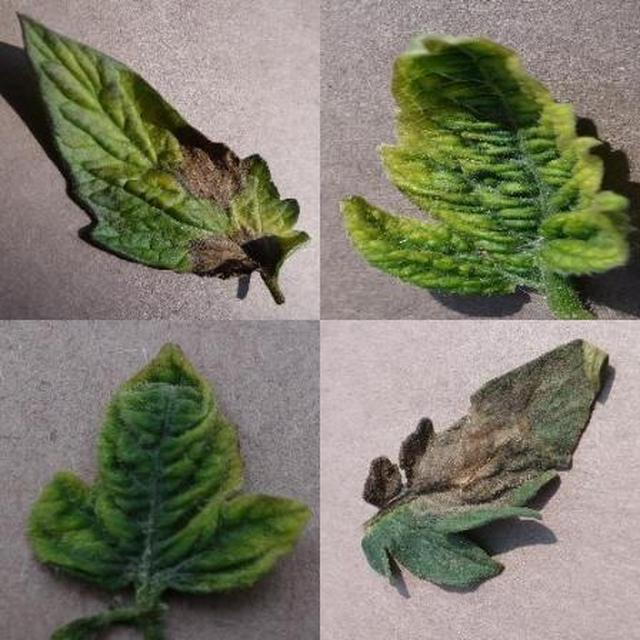Late Blight Leaf: (232, 207, 640, 640)
